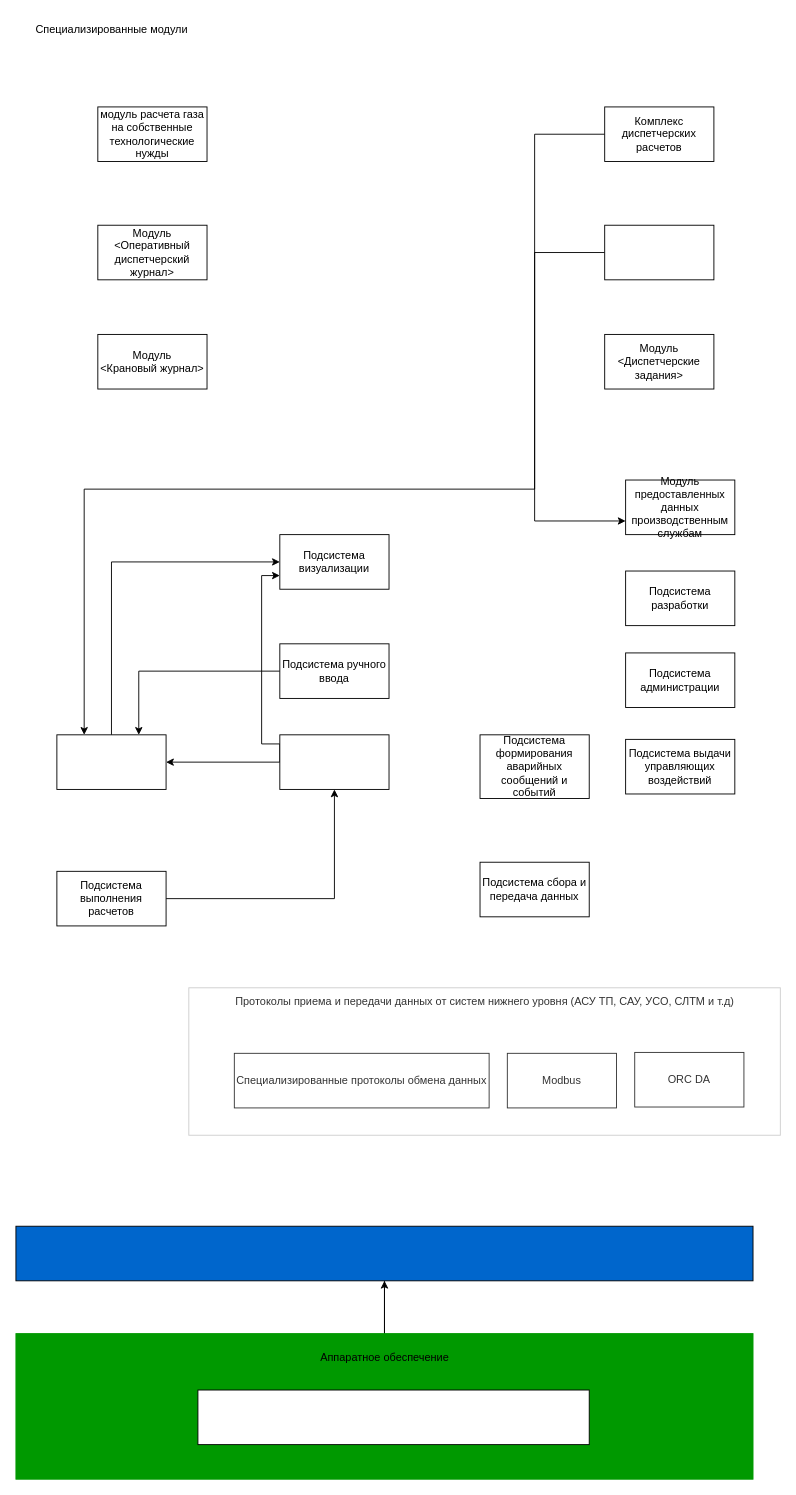
Image size: 796x1495. Some labels were removed from this diagram. The shapes that lost their labels are listed below. From the top down, each one's centre as x and y in pixels, then its label:
At point (659, 252): "Модуль обмена диспетчерскими сообщениями".
At point (111, 761): "Подсистема хранения конфигурационных и исторических данных".
At point (334, 761): "Подсистема хранения данных в реальном времени".
At point (384, 1253): "Системные программное обеспечение".
At point (393, 1417): "Аппаратное обеспечение производства ПАО <Газпром автоматизации> или аналог".
